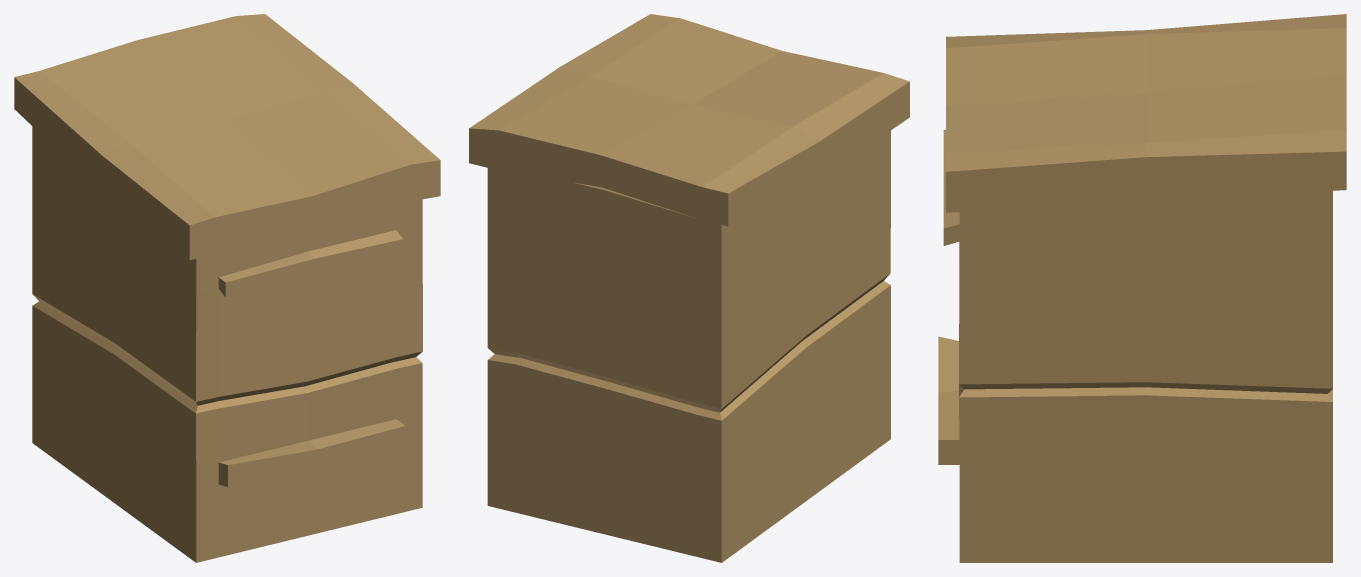
The model's file is Beebox1.fbx.
The picture shows the model from 3 angles, left to right: view 1: azimuth 30°, elevation 25°; view 2: azimuth 150°, elevation 25°; view 3: azimuth 270°, elevation 25°; orthographic projection. The views are drawn at different scales.
Visible parts, largest first — view 1: Cube.268; view 2: Cube.268; view 3: Cube.268.
Part boxes in pixels (x1,y1,x2,y2): Cube.268: [14, 14, 440, 562]; Cube.268: [469, 14, 909, 562]; Cube.268: [938, 14, 1346, 562].
Bounding box in the file's own units: 222 × 314 × 274.
